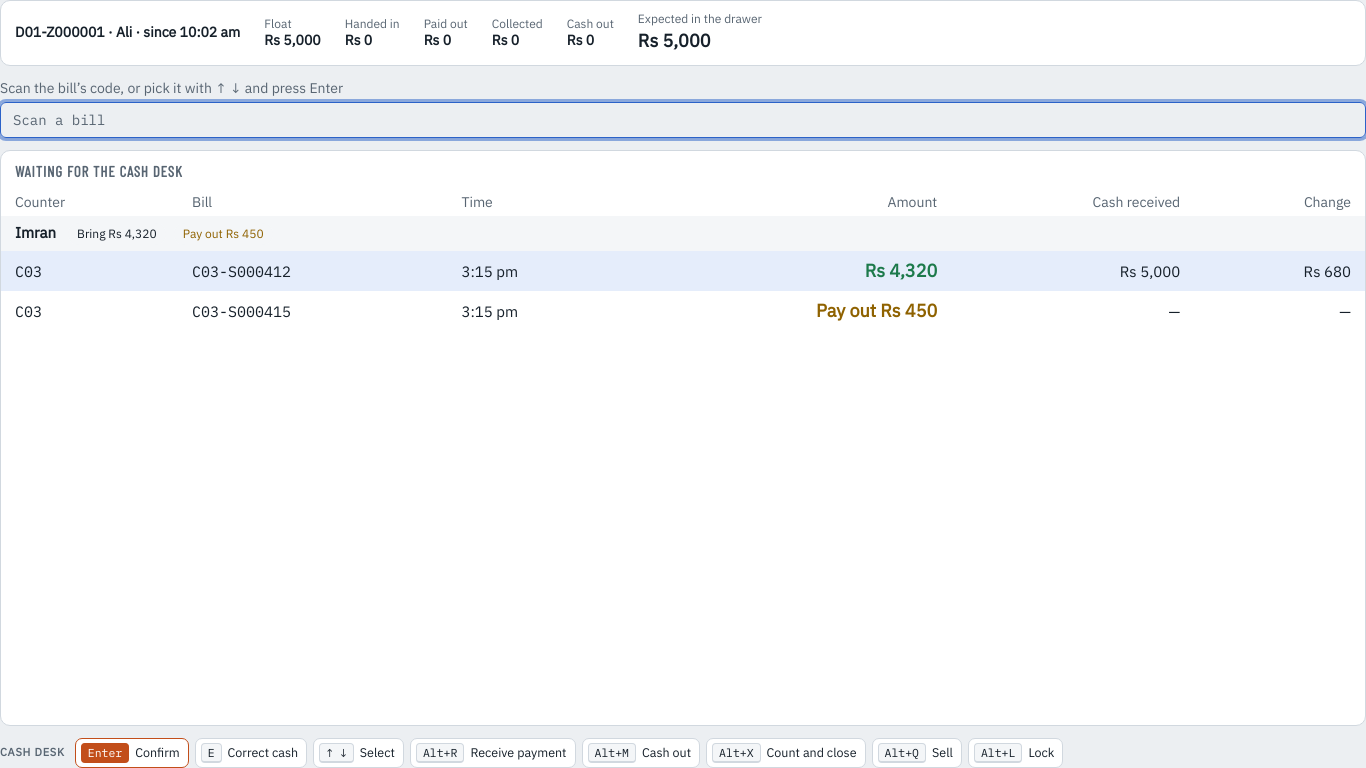
Scenario: collections, cash-out and the count (W1-11) › counts blind: the expected cash shows only after the count; a variance needs a reason and a manager, or later
Expected: the text "C03-S000412" is shown, [184,251,453,291]
Press x
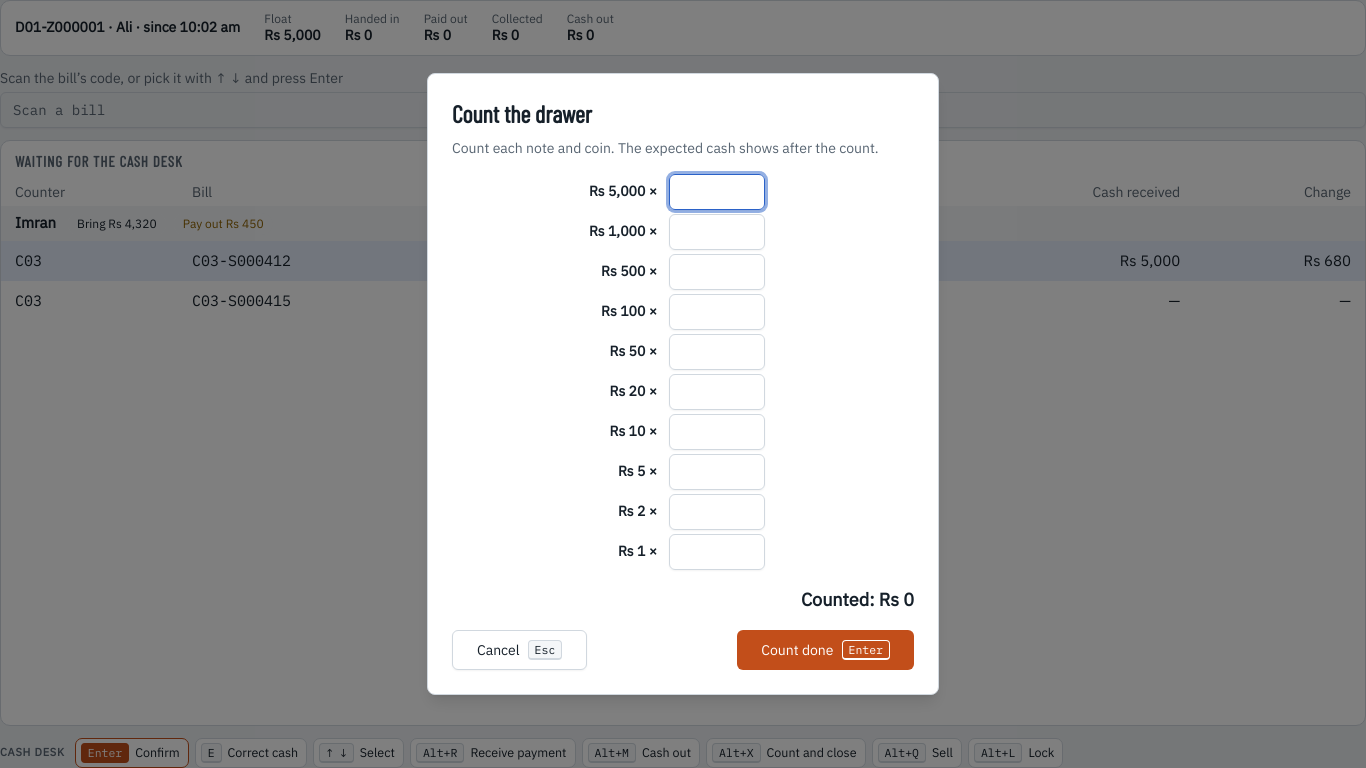
Result: the text "Expected in the drawer" is gone
Type "1" into the field labelled "Rs 5,000 ×".
click(717, 192); type("1")  # box [669,174,765,210]
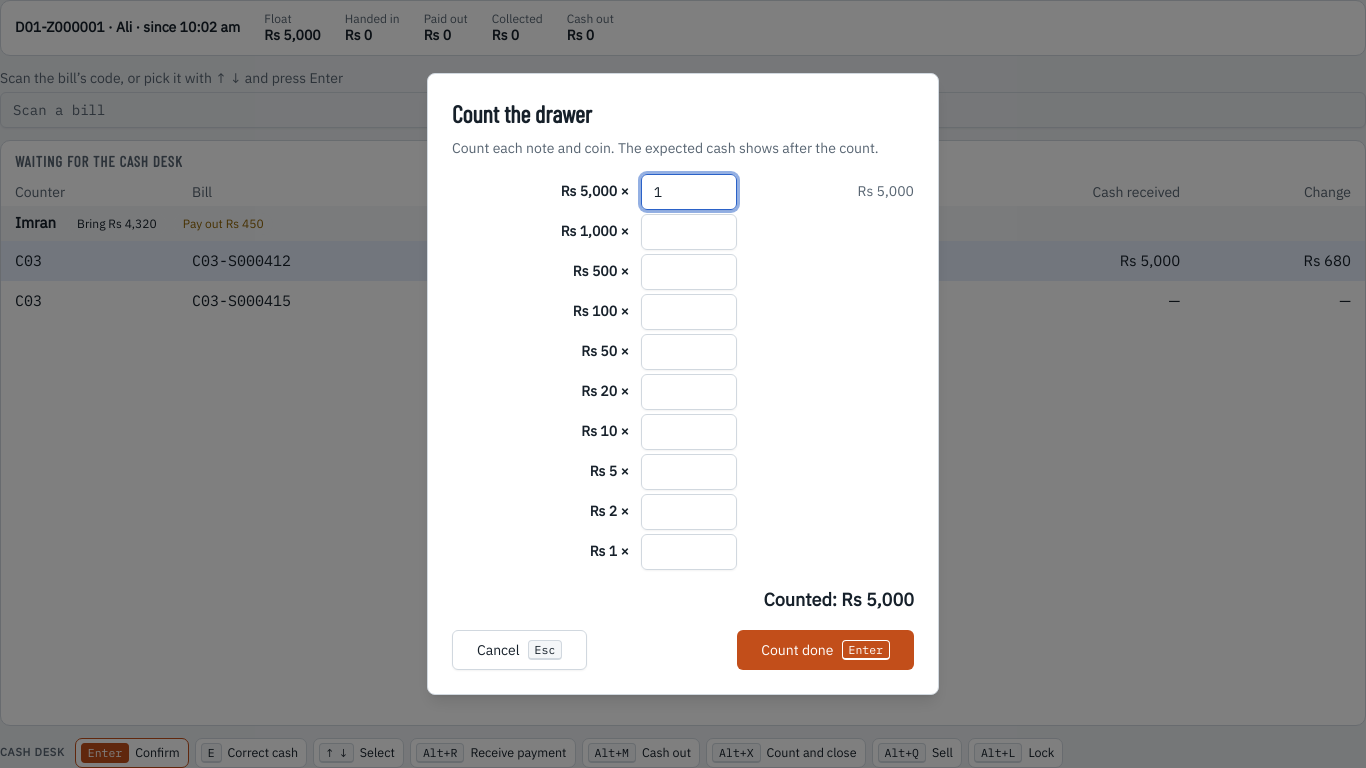
Click the button "Count done Enter".
click(826, 650)  # box [737,630,914,670]
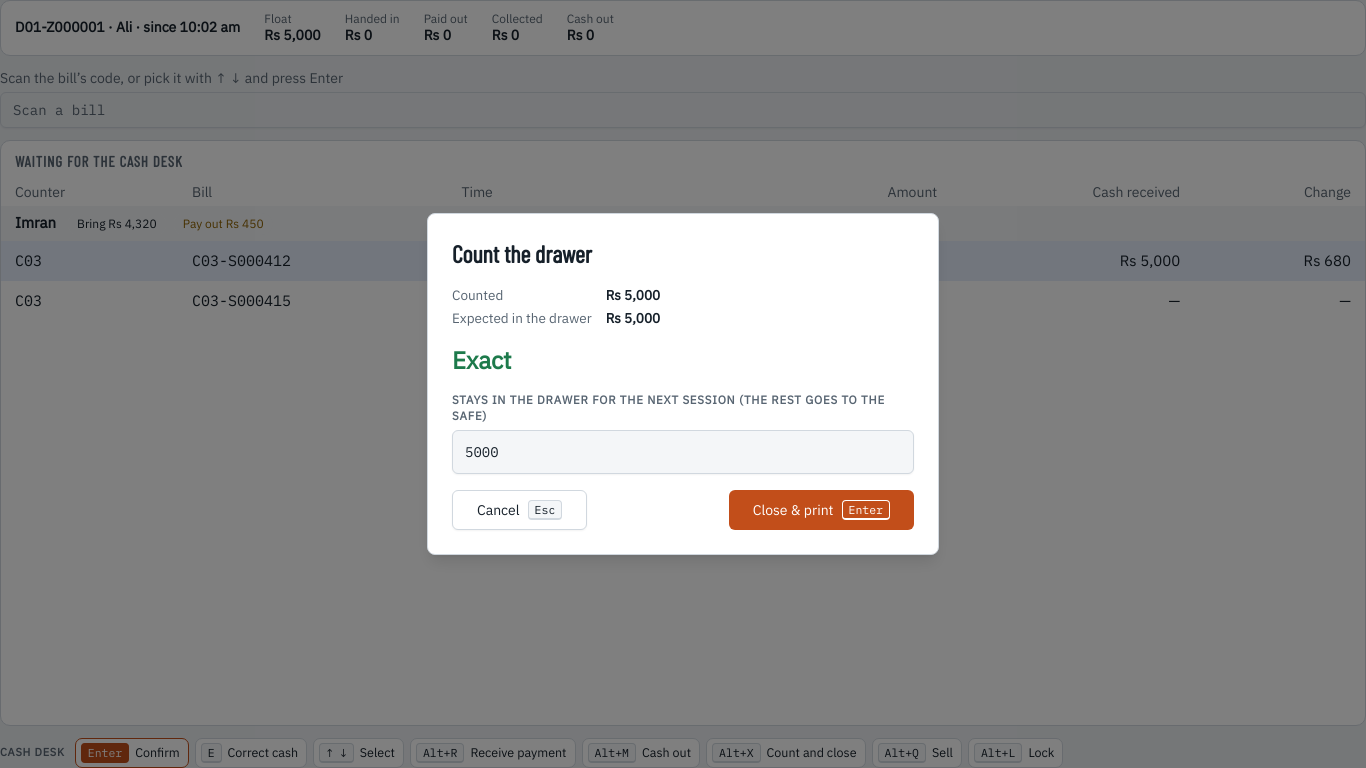
Result: the text "Exact" is shown at [452,344,512,376]
Click the button "Close & print Enter".
click(821, 510)  # box [729,490,914,530]
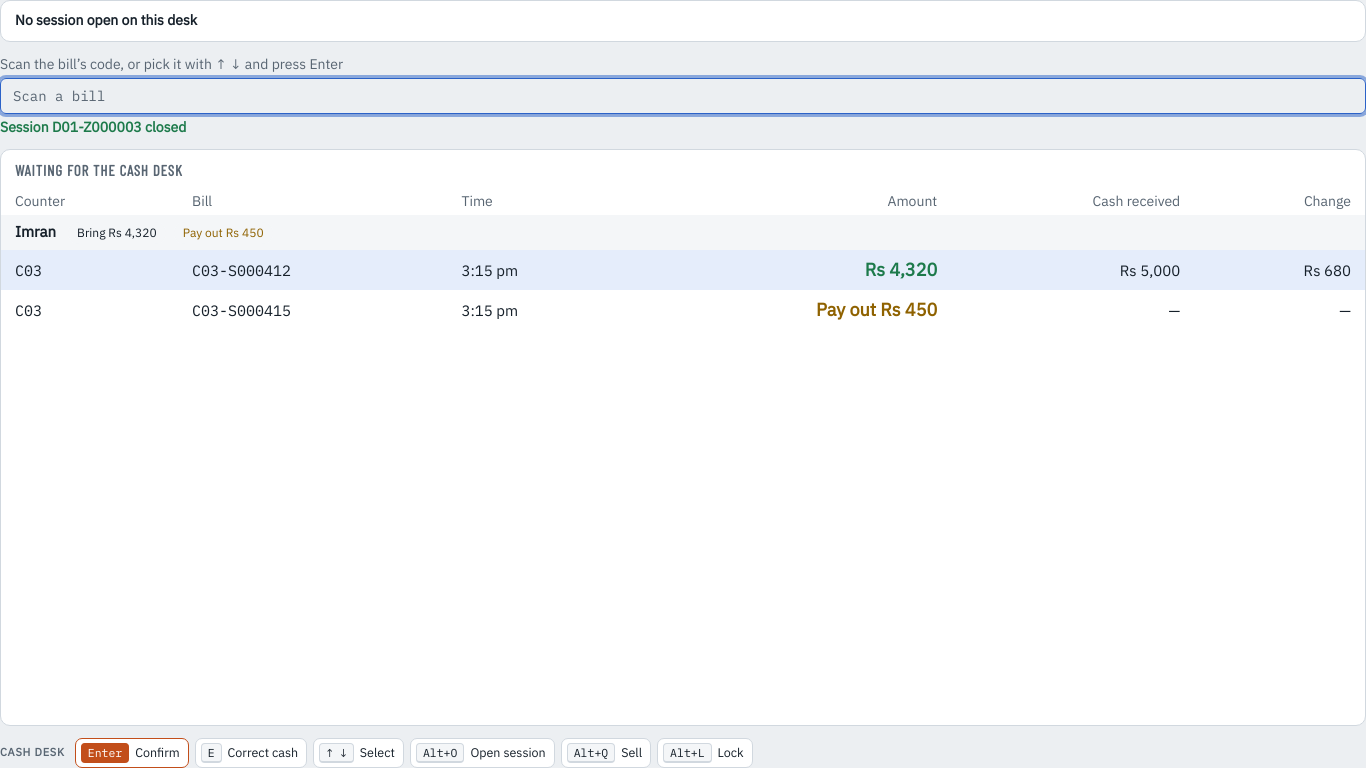
Result: the text "Session D01-Z000003 closed" is shown at [0,118,186,136]
